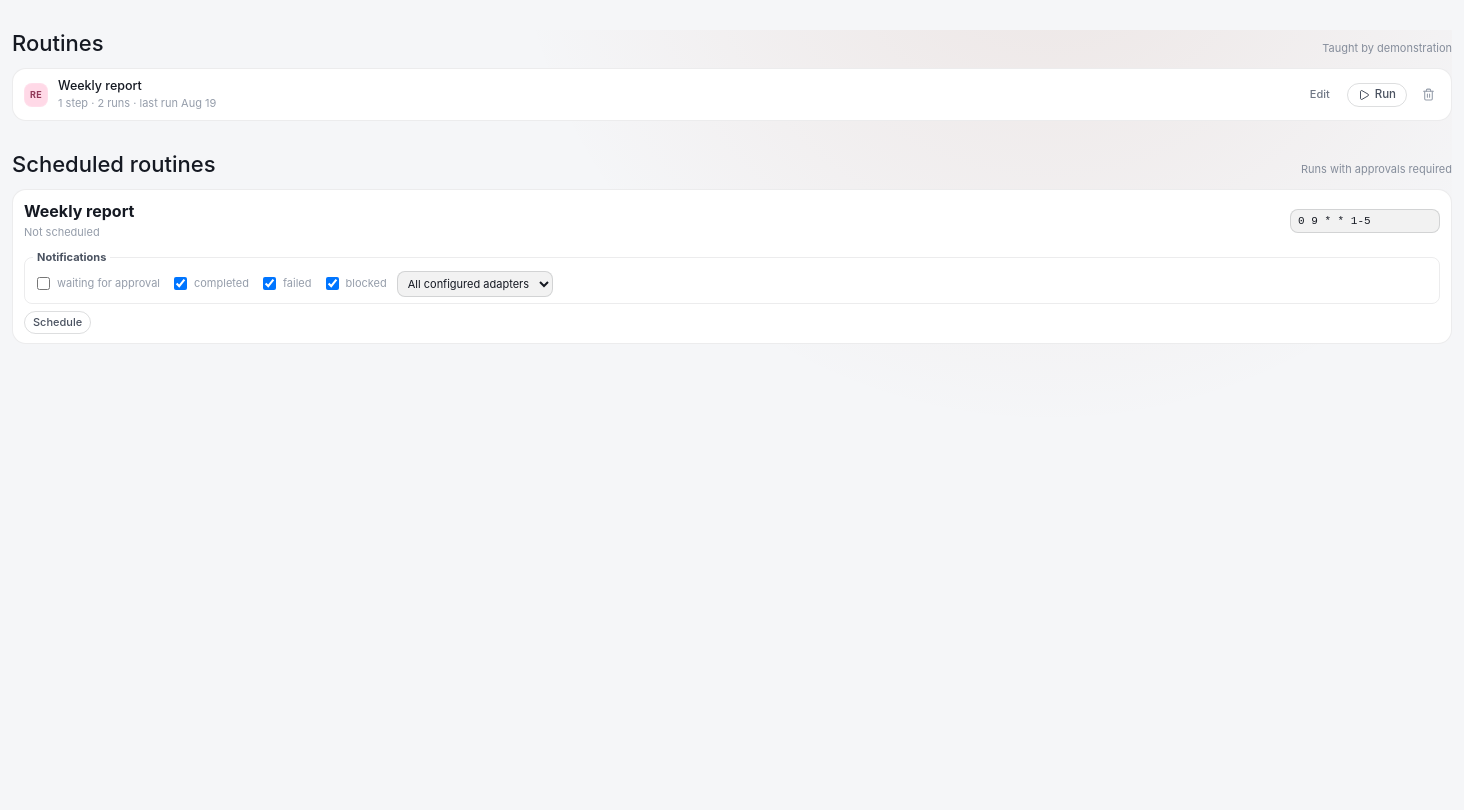
RoutinesPanel › renders update errors instead of silently dropping an edit
Click the button with aria-label "Edit Weekly report" at (1320,95), box [1303,84,1337,105]
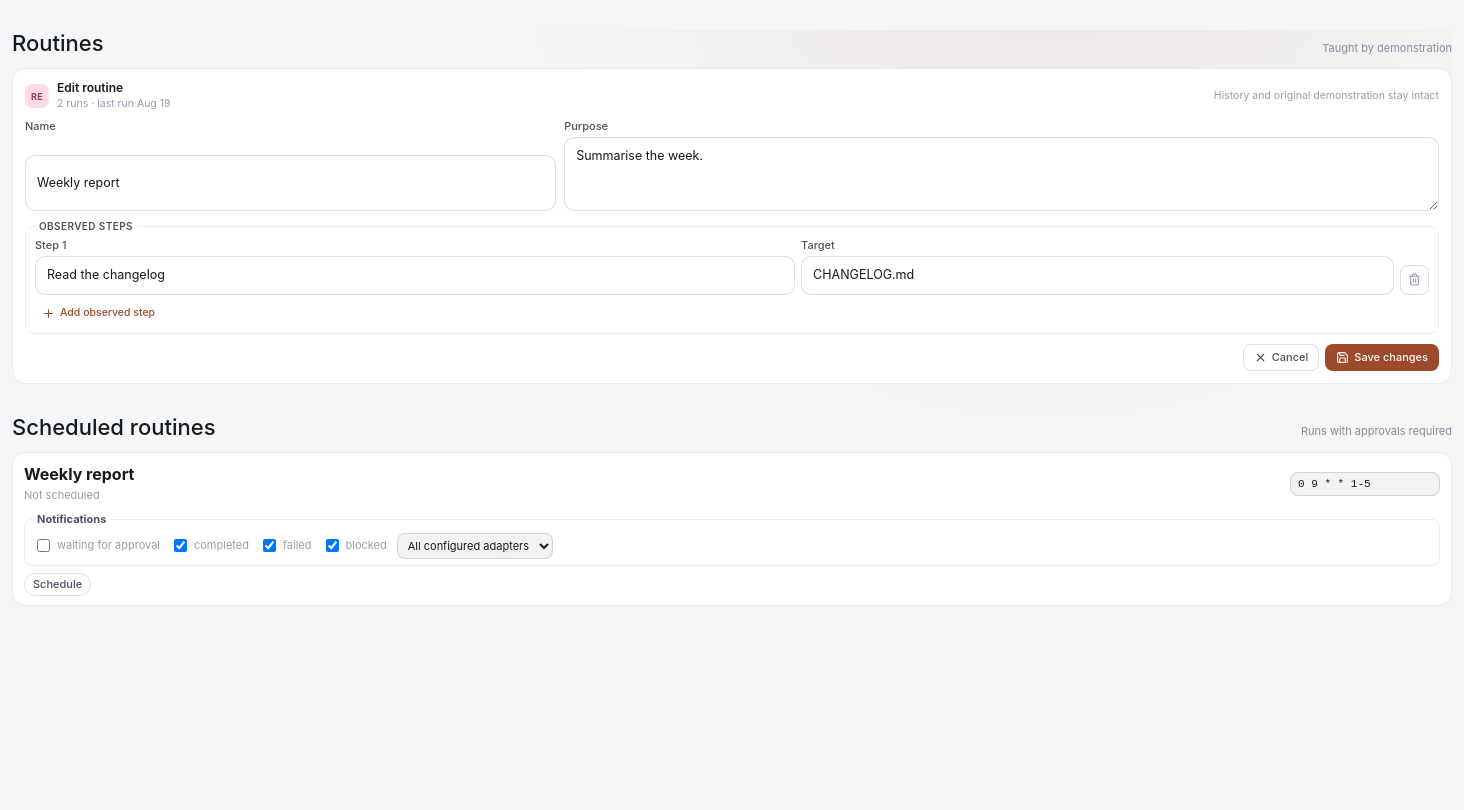
Click the button "Save changes" at (1382,357), box [1325,344,1439,370]
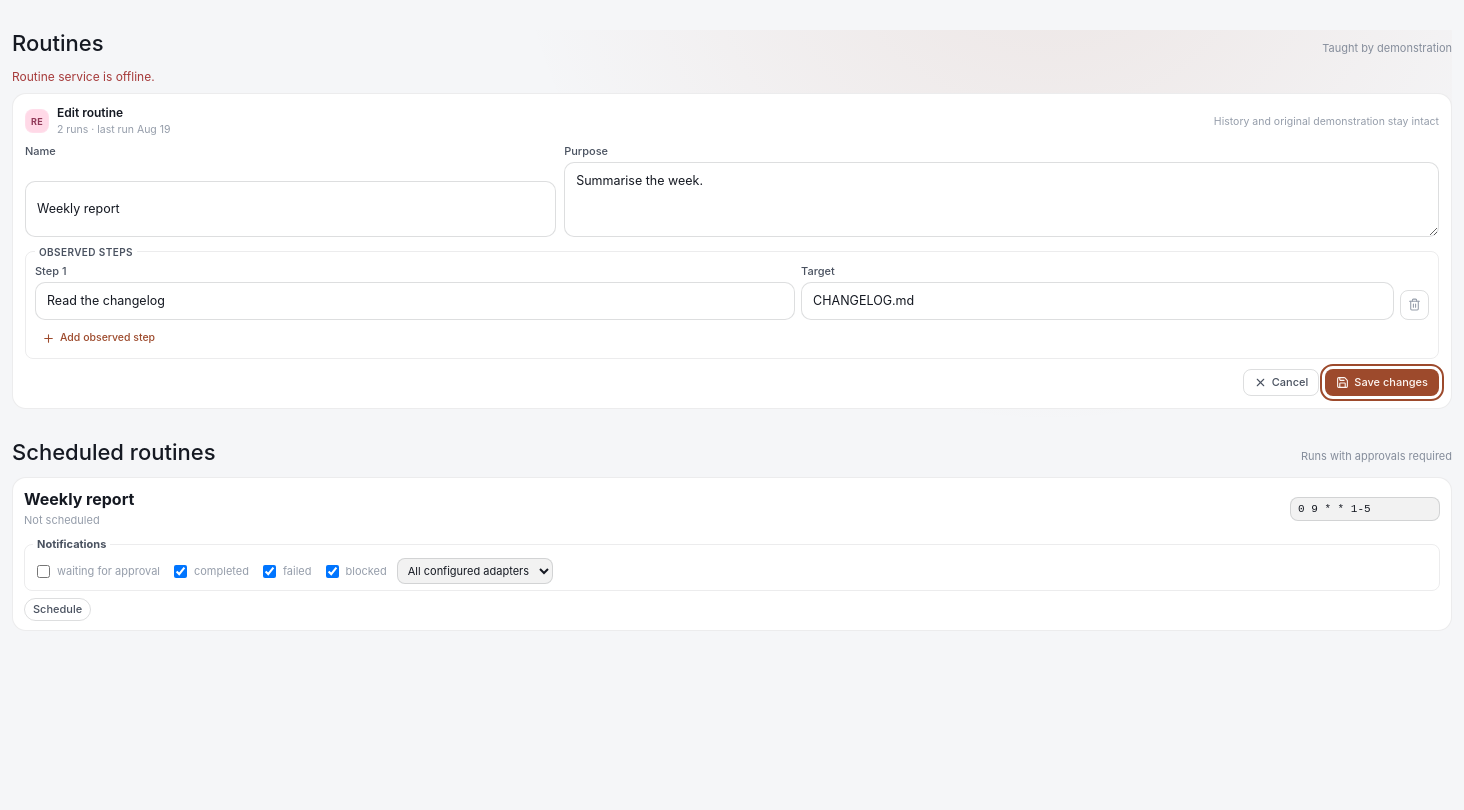
Check: the message reads "Routine service is offline.", box [12,69,155,84]
